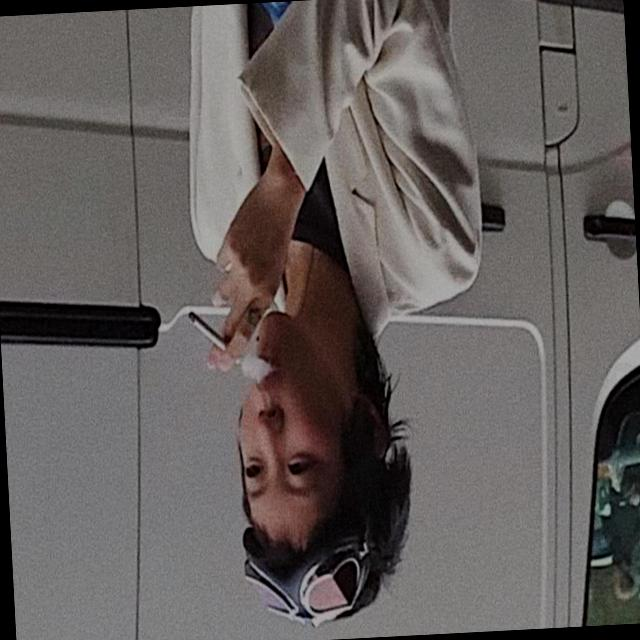smoke: (187, 312, 224, 356)
